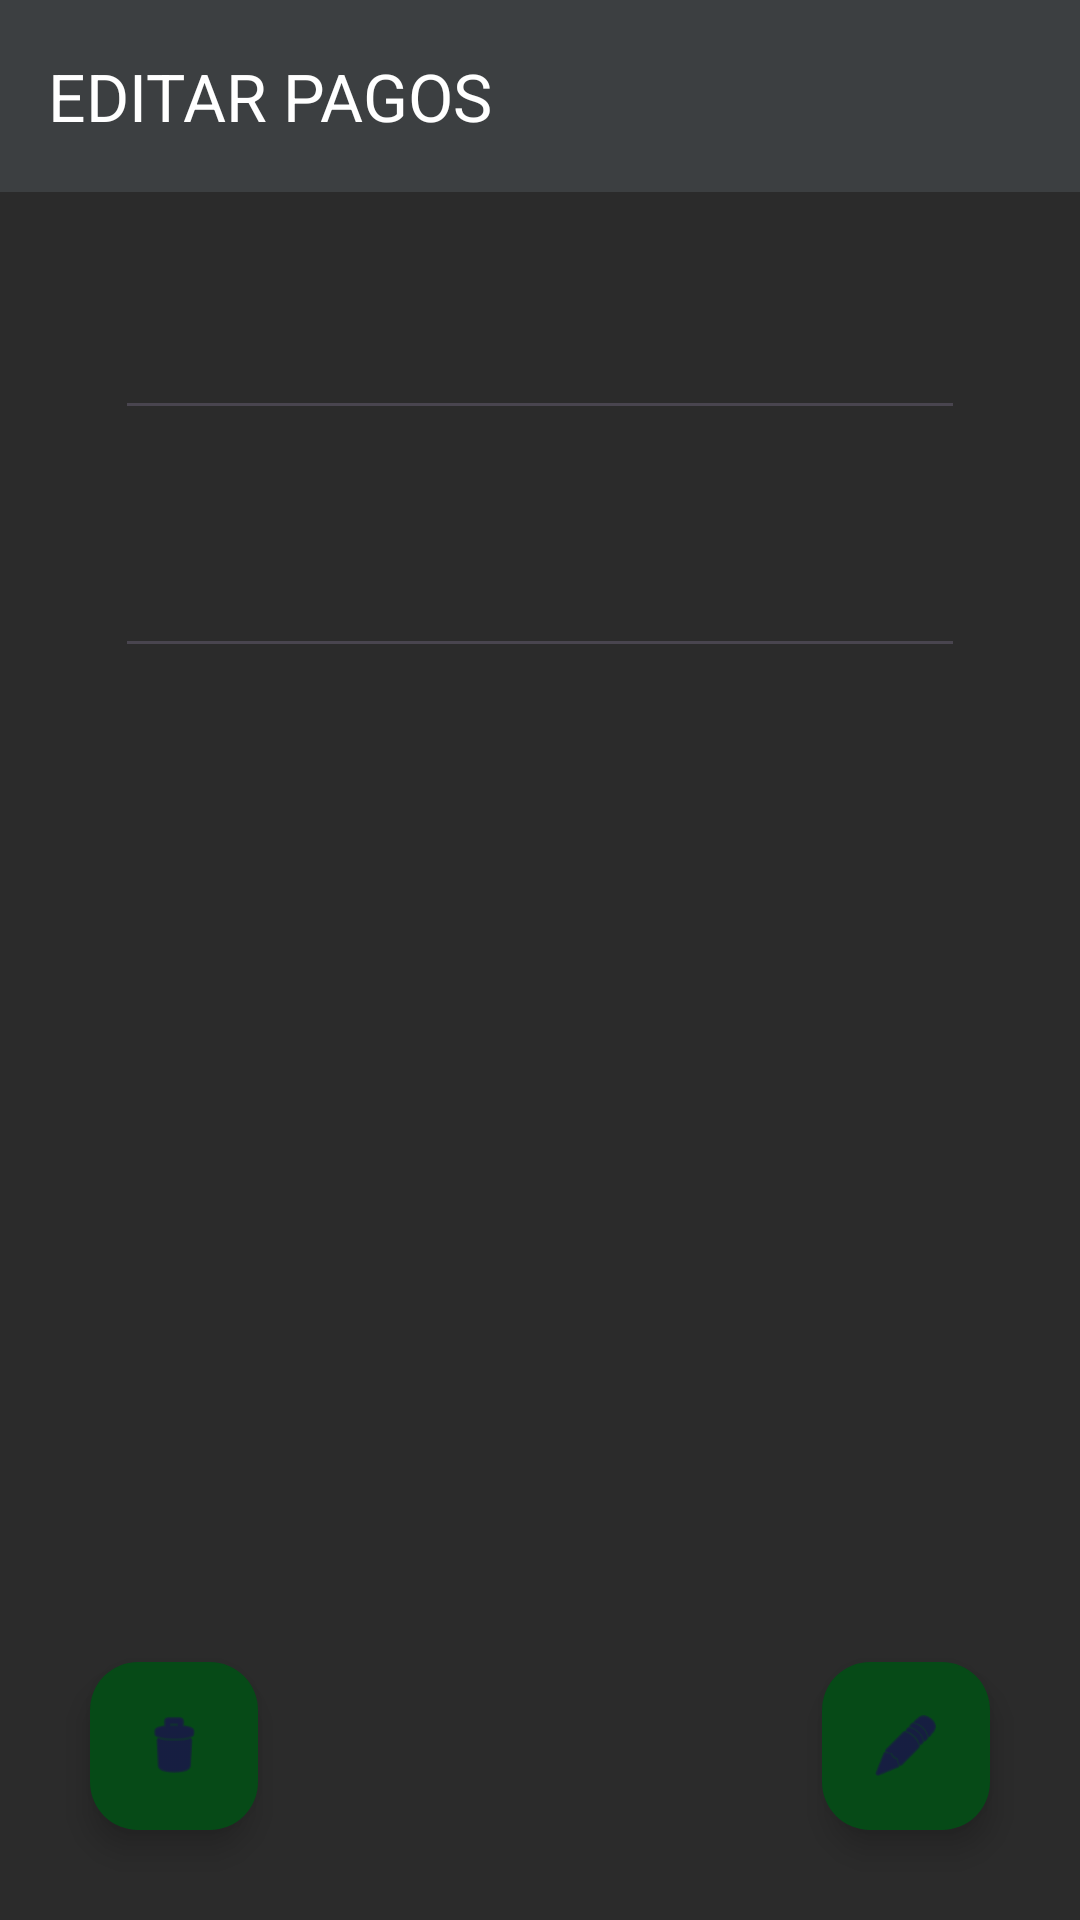

Icon click points for this 1080w x 1920h phone screenshot, format point (x, y):
delete: point (174, 1746)
edit: point (906, 1746)
